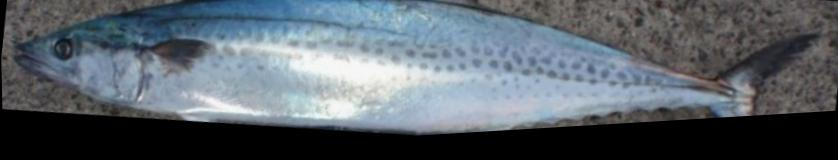fish: (11, 0, 819, 140)
